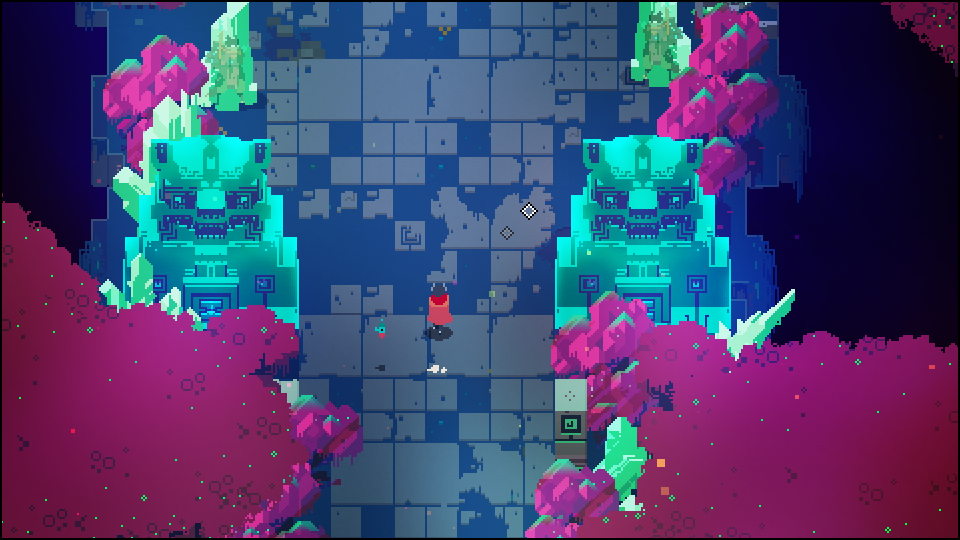player: (425, 280, 446, 327)
